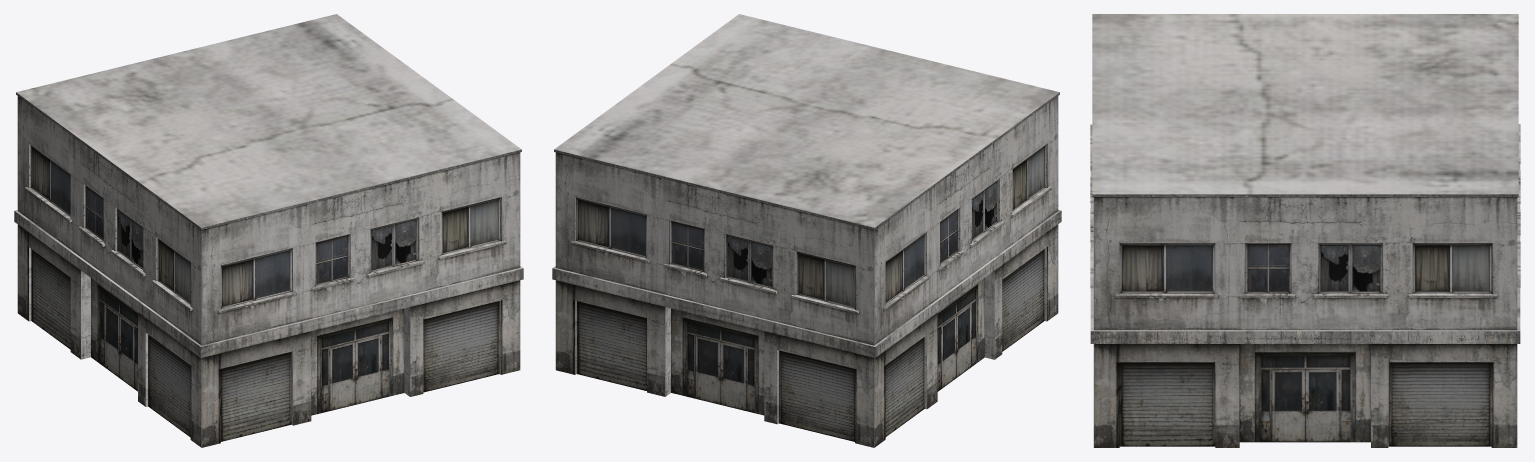
File: building.fbx
3 views of the same model, side by side, from view 1: azimuth 30°, elevation 25°; view 2: azimuth 150°, elevation 25°; view 3: azimuth 270°, elevation 25° (orthographic). The views are drawn at different scales.
Visible parts, largest first — view 1: Building 1; view 2: Building 1; view 3: Building 1.
Part boxes in pixels (<box>): Building 1: <box>14,14,523,447</box>; Building 1: <box>552,14,1061,447</box>; Building 1: <box>1090,14,1520,447</box>.
Size of the model in its own units: 1046 by 683 by 1046.
1 material, 1 textured.
